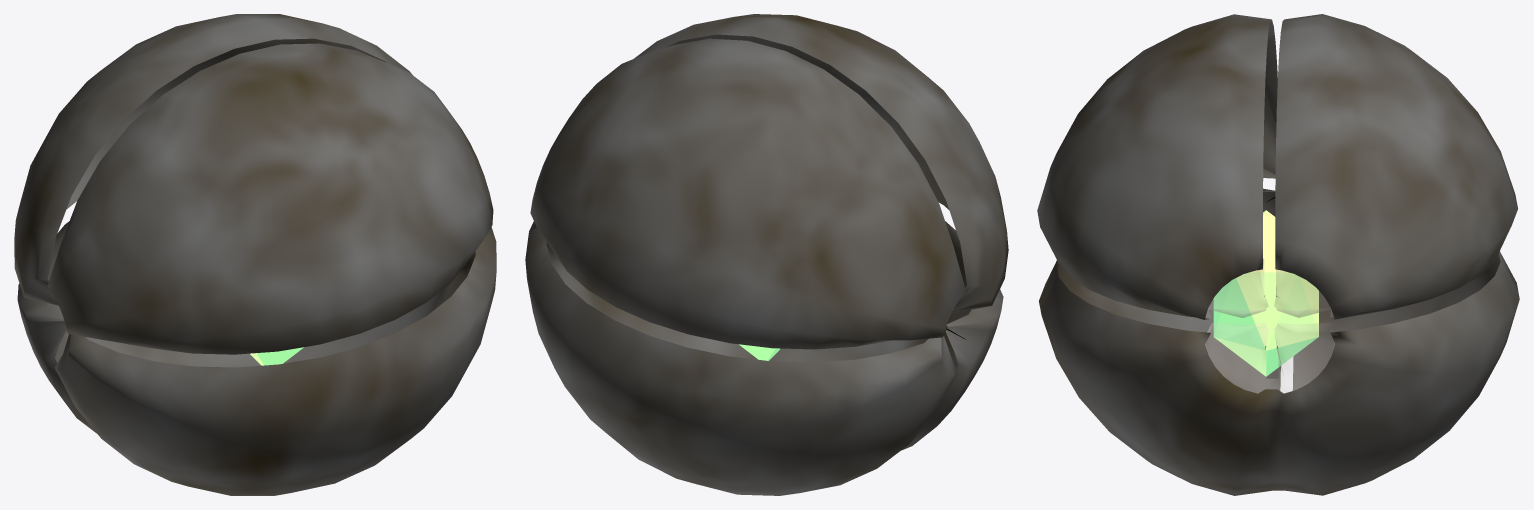
The model's file is MolecEmissiveTextured.glb.
3 renders of one model, left to right at view 1: azimuth 30°, elevation 25°; view 2: azimuth 150°, elevation 25°; view 3: azimuth 270°, elevation 25°, orthographic.
Parts seen in each view (by area): view 1: Molec, Icosphere.001; view 2: Molec; view 3: Molec, Icosphere.001.
Boxes of the visible parts, left/top/right/bottom form: Molec: left=14, top=14, right=496, bottom=495; Icosphere.001: left=250, top=347, right=303, bottom=365; Molec: left=525, top=14, right=1008, bottom=495; Molec: left=1037, top=14, right=1519, bottom=495; Icosphere.001: left=1213, top=210, right=1318, bottom=376.
Bounding box in the file's own units: 1.22 × 1.21 × 1.21.
3 materials, 1 textured.
